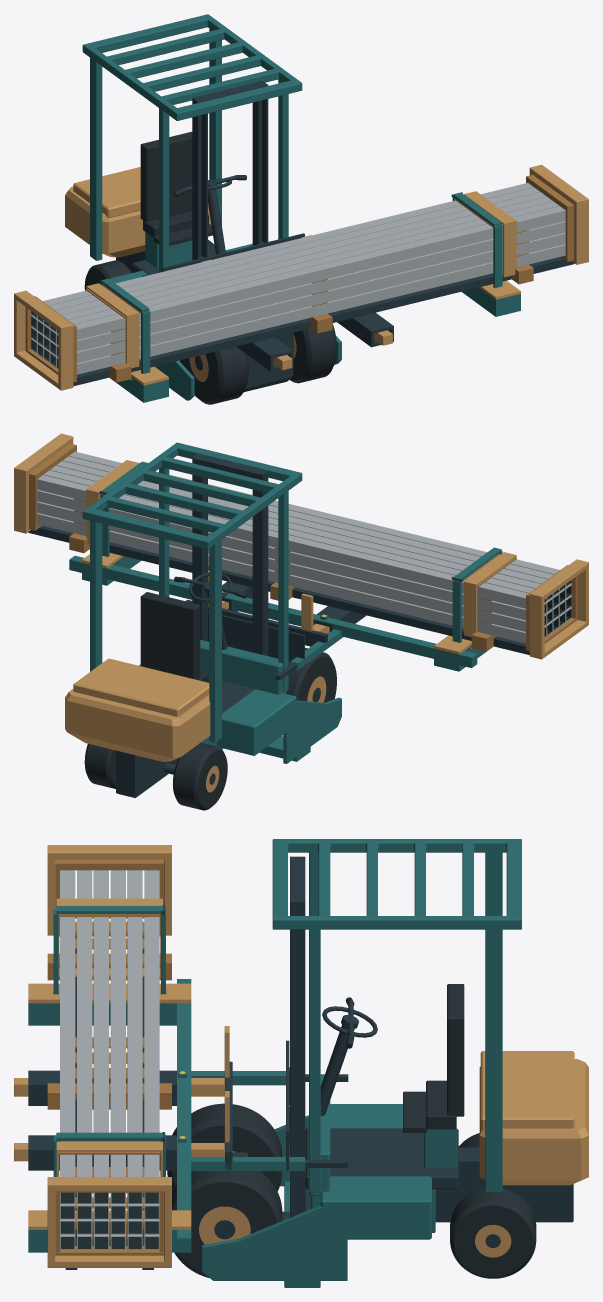
File: long-wheel-roll-profile-preserved-variant.glb
3 views of the same model, one above another, from view 1: azimuth 30°, elevation 25°; view 2: azimuth 150°, elevation 25°; view 3: azimuth 270°, elevation 25° (orthographic). The views are drawn at different scales.
Parts seen in each view (by area): view 1: forklift-loaded-long-bundle__batch_25, forklift-loaded-long-bundle__batch_01, forklift-loaded-long-bundle__batch_00, forklift-loaded-long-bundle__batch_26, forklift-loaded-long-bundle__batch_02, forklift-loaded-long-bundle__batch_27, forklift-loaded-long-bundle__batch_23, forklift-loaded-long-bundle__batch_24, forklift-loaded-long-bundle__batch_19, forklift-loaded-long-bundle__batch_32, forklift-loaded-long-bundle__batch_22, forklift-loaded-long-bundle__batch_30 (+4 smaller); view 2: forklift-loaded-long-bundle__batch_25, forklift-loaded-long-bundle__batch_01, forklift-loaded-long-bundle__batch_02, forklift-loaded-long-bundle__batch_00, forklift-loaded-long-bundle__batch_26, forklift-loaded-long-bundle__batch_30, forklift-loaded-long-bundle__batch_23, forklift-loaded-long-bundle__batch_27, forklift-loaded-long-bundle__batch_24, forklift-loaded-long-bundle__batch_11, forklift-loaded-long-bundle__batch_03, forklift-loaded-long-bundle__batch_19 (+8 smaller); view 3: forklift-loaded-long-bundle__batch_01, forklift-loaded-long-bundle__batch_25, forklift-loaded-long-bundle__batch_00, forklift-loaded-long-bundle__batch_02, forklift-loaded-long-bundle__batch_26, forklift-loaded-long-bundle__batch_24, forklift-loaded-long-bundle__batch_14, forklift-loaded-long-bundle__batch_30, forklift-loaded-long-bundle__batch_22, forklift-loaded-long-bundle__batch_23, forklift-loaded-long-bundle__batch_19, forklift-loaded-long-bundle__batch_32 (+12 smaller).
Part boxes in pixels (x1=…): forklift-loaded-long-bundle__batch_25: x1=31, y1=183, x2=565, y2=374; forklift-loaded-long-bundle__batch_01: x1=82, y1=14, x2=341, y2=400; forklift-loaded-long-bundle__batch_00: x1=116, y1=81, x2=293, y2=391; forklift-loaded-long-bundle__batch_26: x1=14, y1=164, x2=588, y2=390; forklift-loaded-long-bundle__batch_02: x1=65, y1=167, x2=211, y2=257; forklift-loaded-long-bundle__batch_27: x1=73, y1=257, x2=574, y2=386; forklift-loaded-long-bundle__batch_23: x1=140, y1=131, x2=212, y2=245; forklift-loaded-long-bundle__batch_24: x1=25, y1=175, x2=573, y2=382; forklift-loaded-long-bundle__batch_19: x1=180, y1=347, x2=248, y2=404; forklift-loaded-long-bundle__batch_32: x1=236, y1=312, x2=393, y2=371; forklift-loaded-long-bundle__batch_22: x1=289, y1=323, x2=336, y2=383; forklift-loaded-long-bundle__batch_30: x1=110, y1=287, x2=520, y2=402; forklift-loaded-long-bundle__batch_25: x1=37, y1=451, x2=571, y2=643; forklift-loaded-long-bundle__batch_01: x1=82, y1=442, x2=341, y2=763; forklift-loaded-long-bundle__batch_02: x1=65, y1=658, x2=210, y2=761; forklift-loaded-long-bundle__batch_00: x1=116, y1=454, x2=268, y2=797; forklift-loaded-long-bundle__batch_26: x1=14, y1=433, x2=588, y2=659; forklift-loaded-long-bundle__batch_30: x1=69, y1=555, x2=493, y2=671; forklift-loaded-long-bundle__batch_23: x1=140, y1=592, x2=209, y2=682; forklift-loaded-long-bundle__batch_27: x1=28, y1=525, x2=529, y2=654; forklift-loaded-long-bundle__batch_24: x1=29, y1=443, x2=577, y2=651; forklift-loaded-long-bundle__batch_11: x1=173, y1=742, x2=227, y2=810; forklift-loaded-long-bundle__batch_03: x1=208, y1=611, x2=304, y2=665; forklift-loaded-long-bundle__batch_19: x1=286, y1=648, x2=336, y2=702; forklift-loaded-long-bundle__batch_01: x1=202, y1=839, x2=521, y2=1287; forklift-loaded-long-bundle__batch_25: x1=60, y1=870, x2=159, y2=1249; forklift-loaded-long-bundle__batch_00: x1=232, y1=856, x2=573, y2=1222; forklift-loaded-long-bundle__batch_02: x1=479, y1=1051, x2=588, y2=1185; forklift-loaded-long-bundle__batch_26: x1=47, y1=845, x2=171, y2=1267; forklift-loaded-long-bundle__batch_24: x1=47, y1=859, x2=171, y2=1255; forklift-loaded-long-bundle__batch_14: x1=450, y1=1188, x2=536, y2=1278; forklift-loaded-long-bundle__batch_30: x1=28, y1=979, x2=191, y2=1252; forklift-loaded-long-bundle__batch_22: x1=172, y1=1171, x2=282, y2=1277; forklift-loaded-long-bundle__batch_23: x1=403, y1=984, x2=464, y2=1132; forklift-loaded-long-bundle__batch_19: x1=167, y1=1103, x2=282, y2=1191; forklift-loaded-long-bundle__batch_32: x1=28, y1=1070, x2=176, y2=1170.
Size of the model in its own units: 4.2 by 2.1 by 3.
